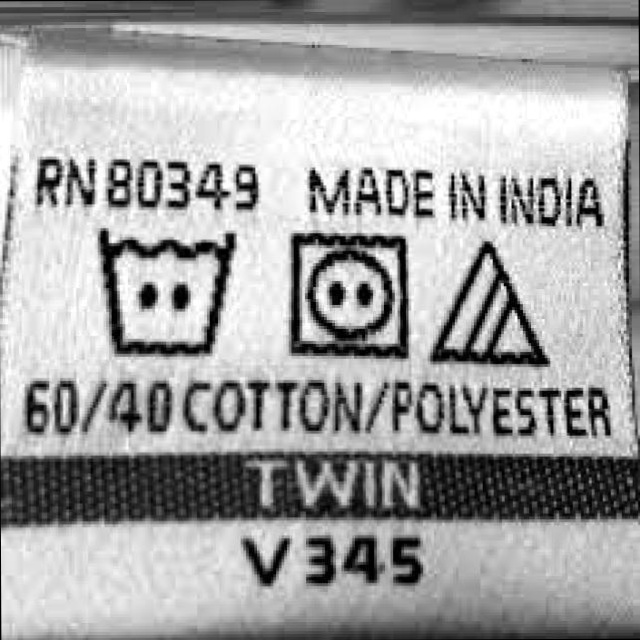40C: (87, 219, 245, 364)
non_chlorine_bleach: (423, 239, 554, 374)
tumble_dry_medium: (281, 227, 417, 361)
